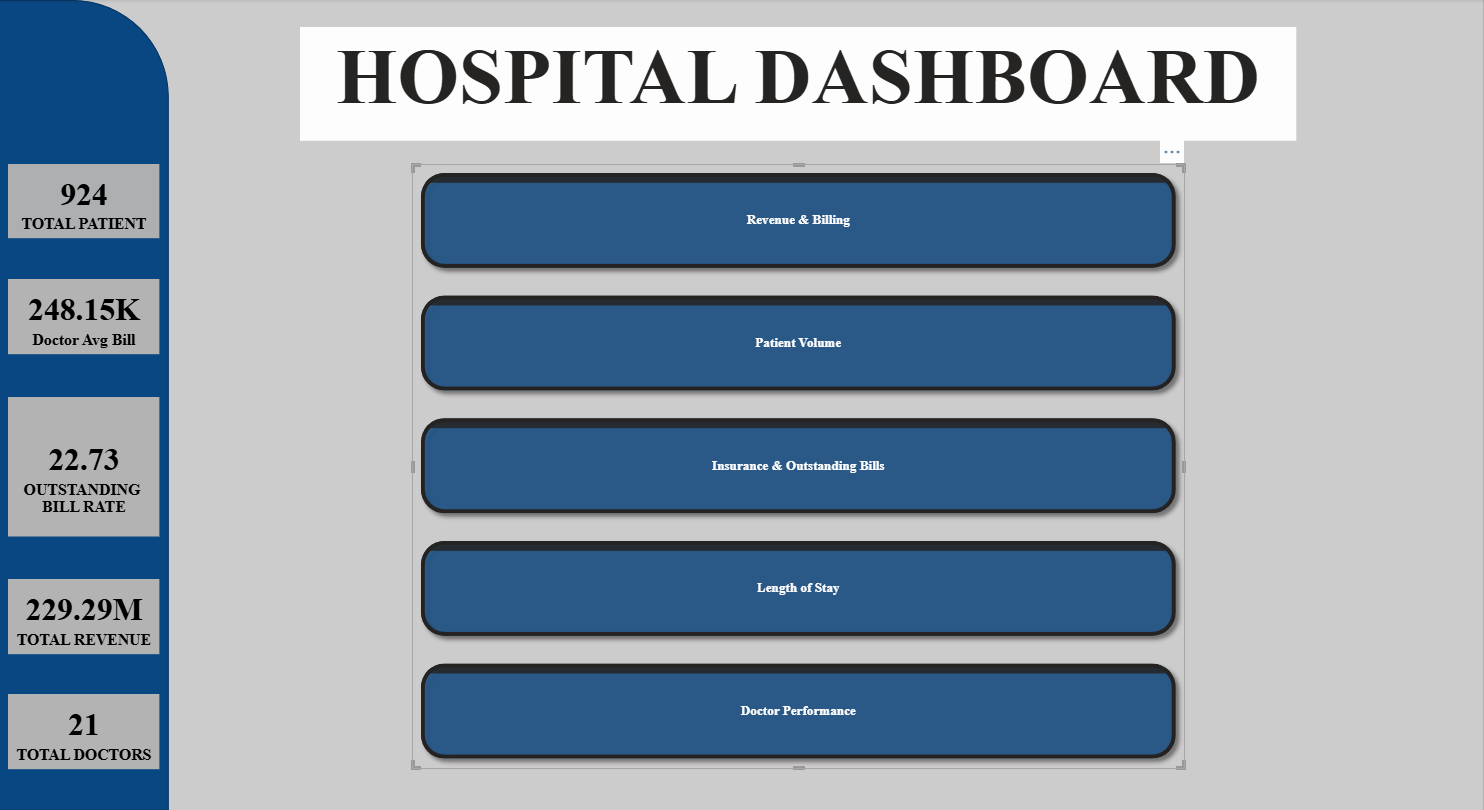

The dashboard page shown, as its layout file describes it:
{"tool":"powerbi","page":{"name":"HOME","canvas":[1500,820],"ordinal":0},"visuals":[{"type":"shape","box":[0,0.7,171.6,819.3],"z":0},{"type":"pageNavigator","box":[417,167,781.8,611.4],"z":1000},{"type":"textbox","box":[304.5,28.4,1006.8,114.8],"z":2000},{"type":"card","fields":{"Values":["main sheet.TOTAL PATIENT"]},"box":[9.1,167,153.4,75],"z":3000},{"type":"card","fields":{"Values":["main sheet.AVG BILL PER PATIENT"]},"box":[9.1,283,153.4,76.1],"z":4000},{"type":"card","fields":{"Values":["main sheet.OUTSTANDING BILL RATE"]},"box":[9.1,402.3,153.4,140.9],"z":5000},{"type":"card","fields":{"Values":["main sheet.TOTAL REVENUE"]},"box":[9.1,586.4,153.4,76.1],"z":6000},{"type":"card","fields":{"Values":["main sheet.TOTAL DOCTORS"]},"box":[9.1,702.3,153.4,76.1],"z":7000}]}

Visuals, with their boxes in screenshot pixels (x1, y1, x2, y2), scaled from the page's 1500x820 canvas onto the 1484x810 screenshot:
shape: 0,1,170,809
pageNavigator: 413,165,1186,769
textbox: 301,28,1297,141
card - main sheet.TOTAL PATIENT: 9,165,161,239
card - main sheet.AVG BILL PER PATIENT: 9,280,161,355
card - main sheet.OUTSTANDING BILL RATE: 9,397,161,537
card - main sheet.TOTAL REVENUE: 9,579,161,654
card - main sheet.TOTAL DOCTORS: 9,694,161,769
